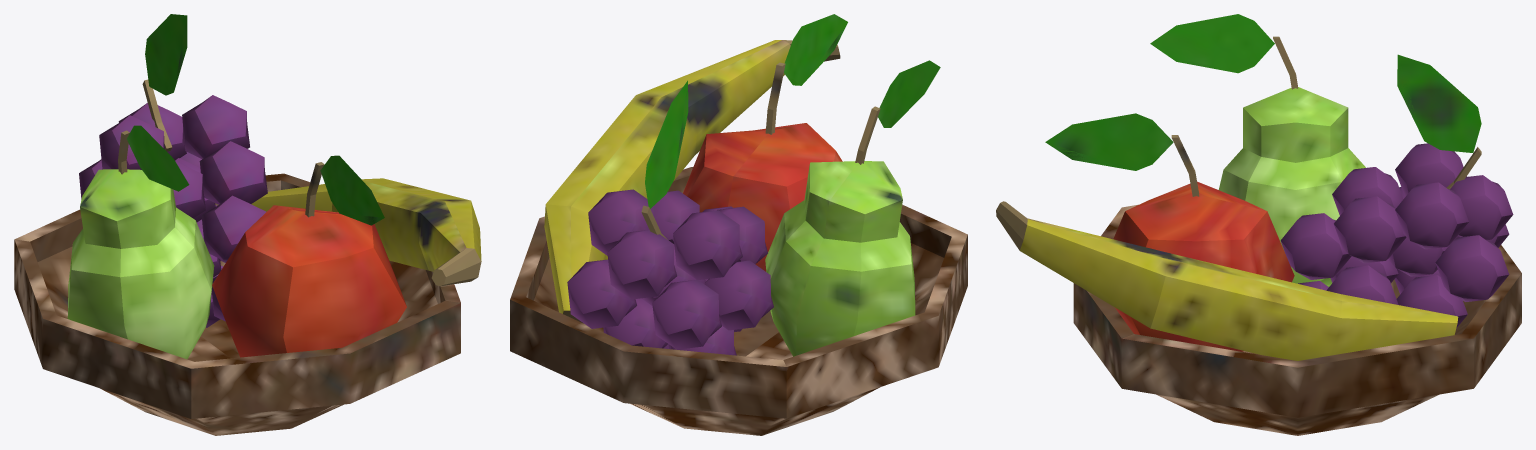
File: FruitAndBowl.fbx
The picture shows the model from 3 angles, left to right: view 1: azimuth 30°, elevation 25°; view 2: azimuth 150°, elevation 25°; view 3: azimuth 270°, elevation 25°; orthographic projection. The views are drawn at different scales.
Visible parts, largest first — view 1: pCube39; view 2: pCube39; view 3: pCube39.
Boxes of the visible parts, <box> form: pCube39: <box>14,14,481,435</box>; pCube39: <box>510,14,967,435</box>; pCube39: <box>996,14,1521,435</box>.
Bounding box in the file's own units: 52.64 × 43.57 × 61.76.
Materials: 1 (1 with a texture image).
